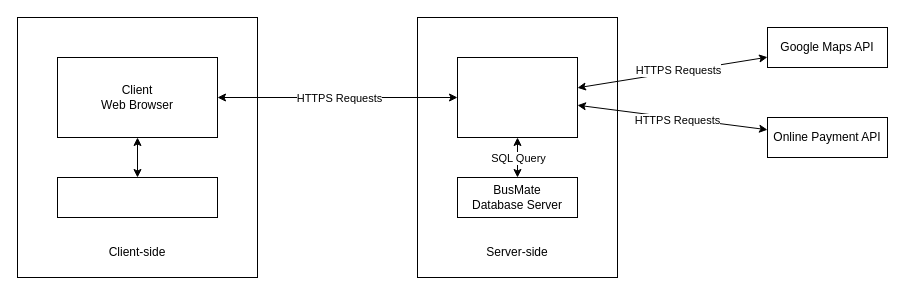
Some shapes in this 905 by 295 pixel diagram are drawn without their labels. The shapes that lost their labels are listed below. From the top down, each one's centre as x and y in pixels, then its label:
At pixel 517 97: "BusMate Web Server".
At pixel 137 197: "GPS Service".
